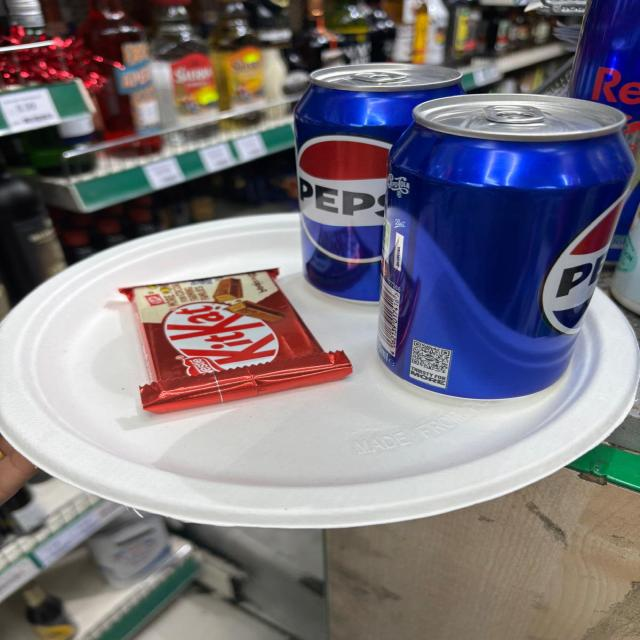kitkat: (125, 272, 352, 418)
pepsi: (368, 98, 640, 412), (283, 38, 464, 312)
